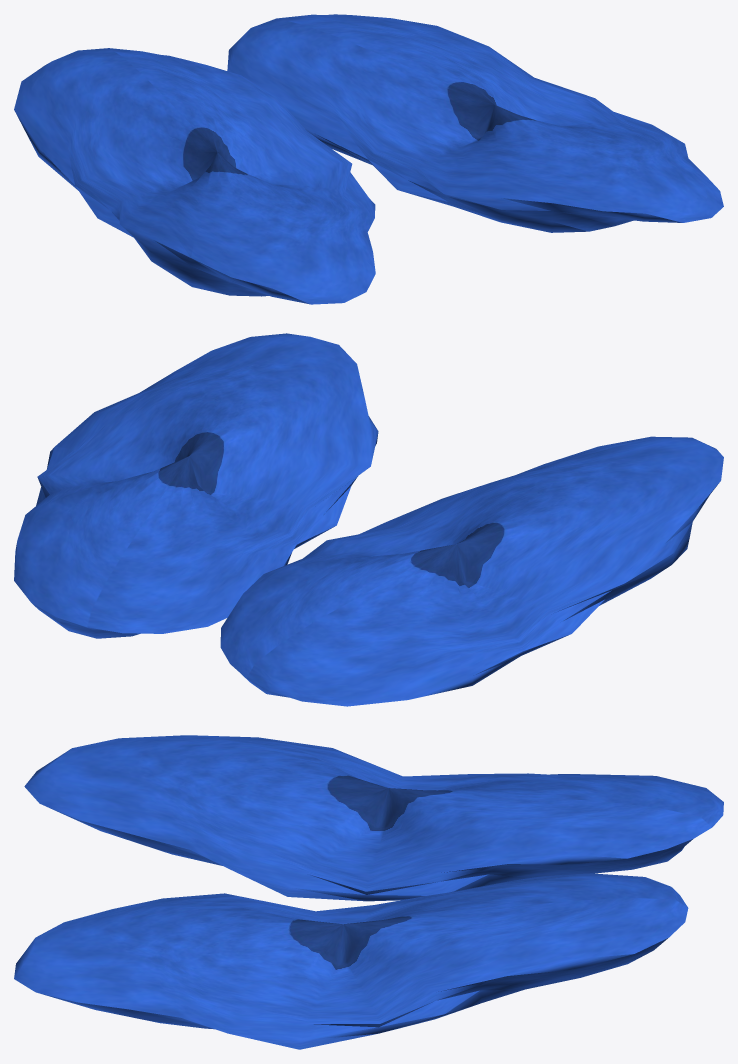
Rendered from ShoeCoverPair.obj.
3 renders of one model, top to bottom at view 1: azimuth 30°, elevation 25°; view 2: azimuth 150°, elevation 25°; view 3: azimuth 270°, elevation 25°, orthographic. The views are drawn at different scales.
Visible parts, largest first — view 1: Cover; view 2: Cover; view 3: Cover.
Boxes of the visible parts, x1=… form: Cover: x1=14, y1=14, x2=723, y2=304; Cover: x1=14, y1=333, x2=723, y2=706; Cover: x1=14, y1=735, x2=723, y2=1049.
Size of the model in its own units: 0.2968 by 0.0357 by 0.3172.
Materials: 1 (1 with a texture image).
